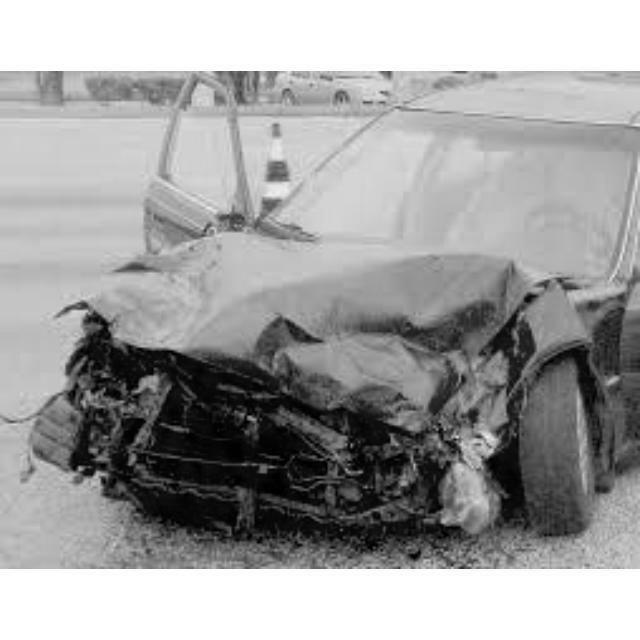bonnet-dent: (136, 222, 478, 408)
